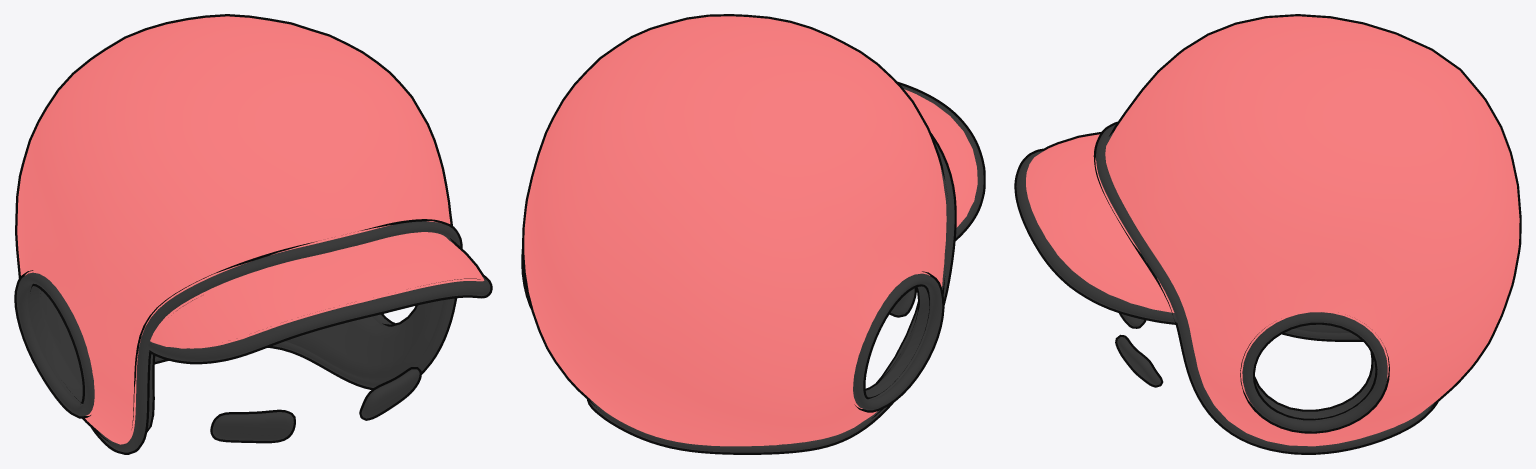
File: HEAD.SPORT.BASEBALL.glb
3 renders of one model, left to right at view 1: azimuth 30°, elevation 25°; view 2: azimuth 150°, elevation 25°; view 3: azimuth 270°, elevation 25°, orthographic. The views are drawn at different scales.
Visible parts, largest first — view 1: HEAD.SPORT.BASEBALL; view 2: HEAD.SPORT.BASEBALL; view 3: HEAD.SPORT.BASEBALL.
Boxes of the visible parts, <box> form: HEAD.SPORT.BASEBALL: <box>14,14,492,454</box>; HEAD.SPORT.BASEBALL: <box>521,14,985,454</box>; HEAD.SPORT.BASEBALL: <box>1014,14,1521,454</box>.
Bounding box in the file's own units: 1.41 × 1.33 × 1.71.
